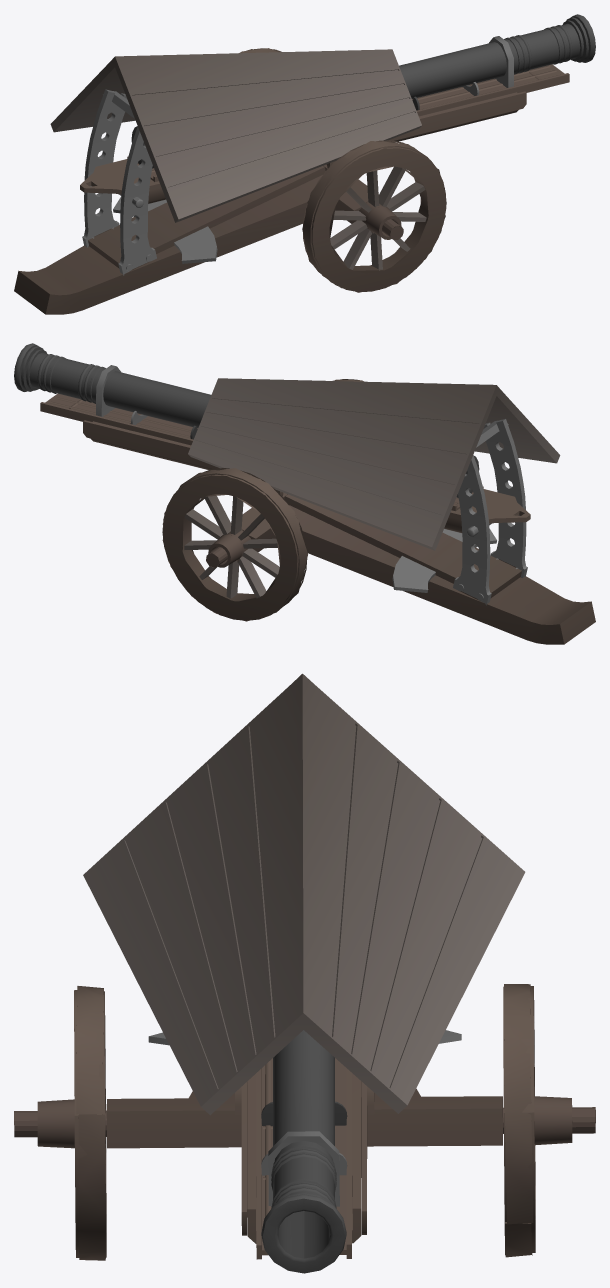
File: setka.fbx
3 renders of one model, top to bottom at view 1: azimuth 30°, elevation 25°; view 2: azimuth 150°, elevation 25°; view 3: azimuth 270°, elevation 25°, orthographic. The views are drawn at different scales.
Parts seen in each view (by area): view 1: gun, base; view 2: gun, base; view 3: gun, base.
Boxes of the visible parts, bbox=[...] form: gun: bbox=[50, 14, 595, 222]; base: bbox=[14, 48, 446, 314]; gun: bbox=[14, 343, 560, 550]; base: bbox=[162, 379, 595, 644]; gun: bbox=[83, 673, 525, 1273]; base: bbox=[14, 984, 595, 1260].
Bounding box in the file's own units: 531 × 410 × 1008.
Materials: 1 (1 with a texture image).
